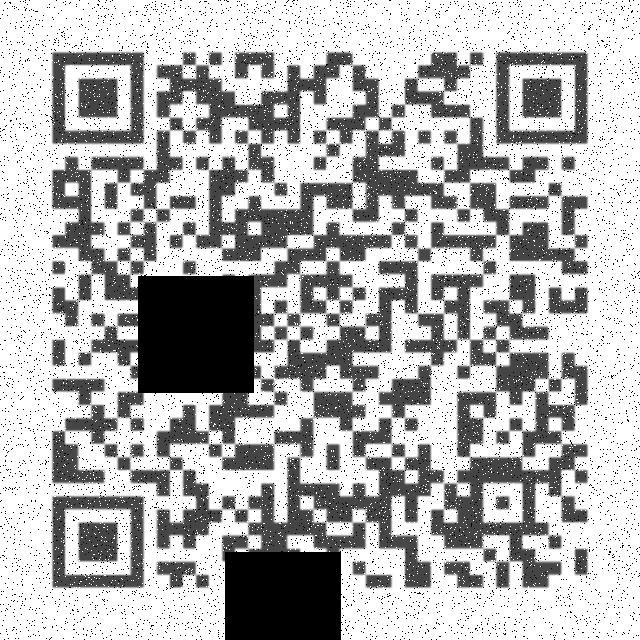QR_CODE: (38, 37, 606, 605)
